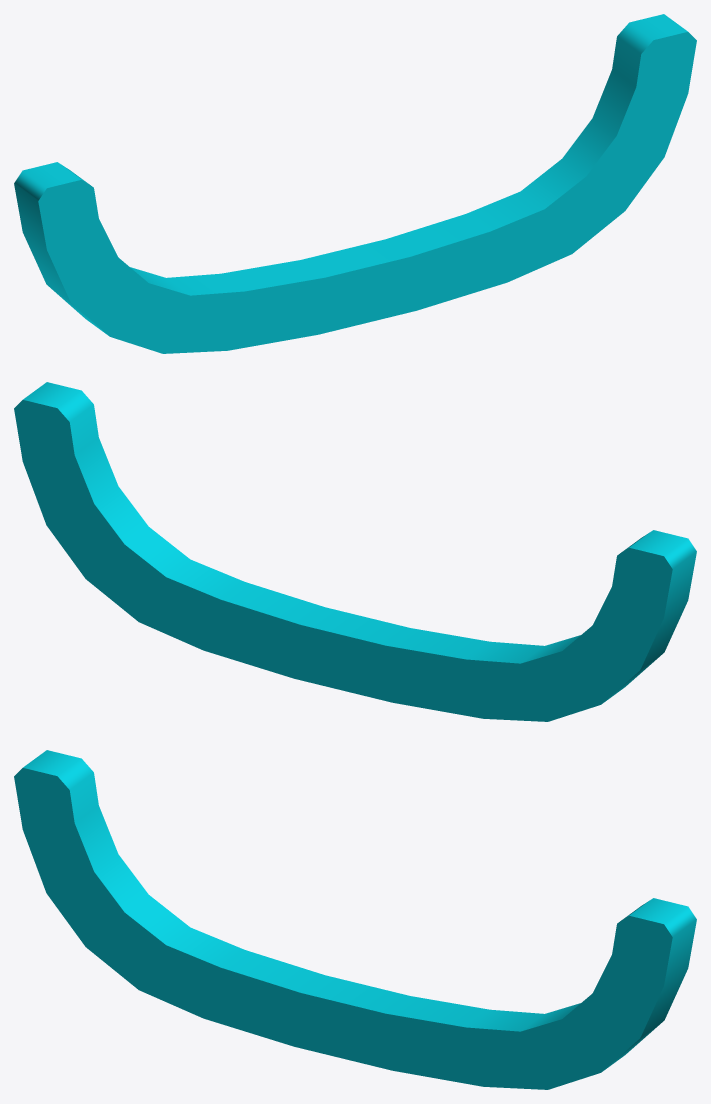
File: Container_08_Handle.fbx
3 renders of one model, top to bottom at view 1: azimuth 30°, elevation 25°; view 2: azimuth 150°, elevation 25°; view 3: azimuth 330°, elevation 25°, orthographic.
Visible parts, largest first — view 1: Container_08_Handle; view 2: Container_08_Handle; view 3: Container_08_Handle.
Part boxes in pixels (box(x1,y1,x2,y2)): Container_08_Handle: box(14, 14, 696, 353); Container_08_Handle: box(14, 382, 696, 721); Container_08_Handle: box(14, 750, 696, 1089).
Bounding box in the file's own units: 25.97 × 8.02 × 1.66.
